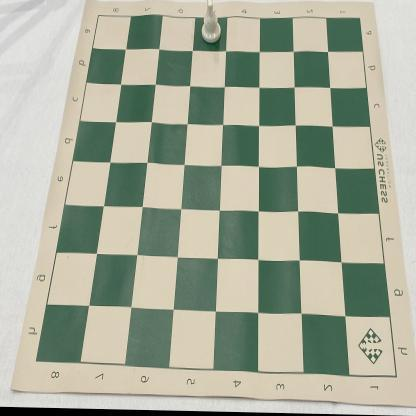white-knight: (200, 0, 221, 46)
